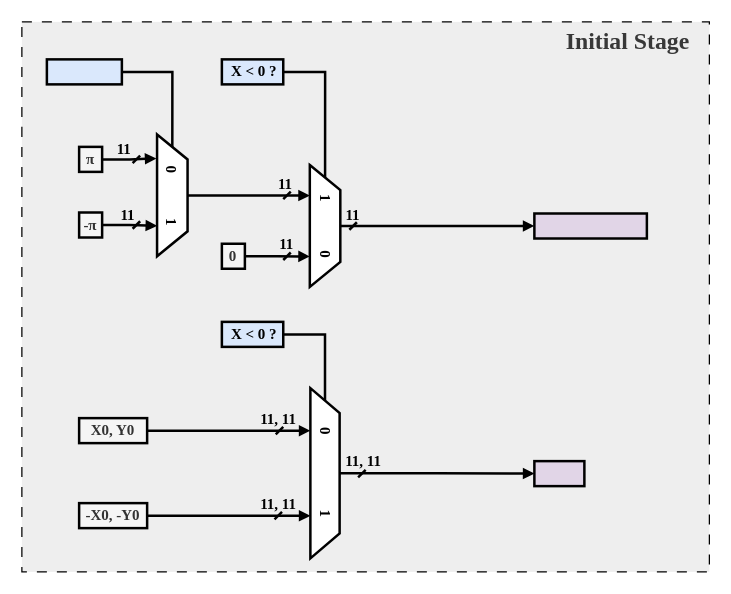
Some shapes in this 731 by 594 pixel diagram are drawn without their labels. The centre of each missing label's shape, as x and y in pixels:
"Phase Adjust" belongs at point 590,225.
"X, Y" belongs at point 558,473.
"Y >= 0 ?" belongs at point 83,71.
